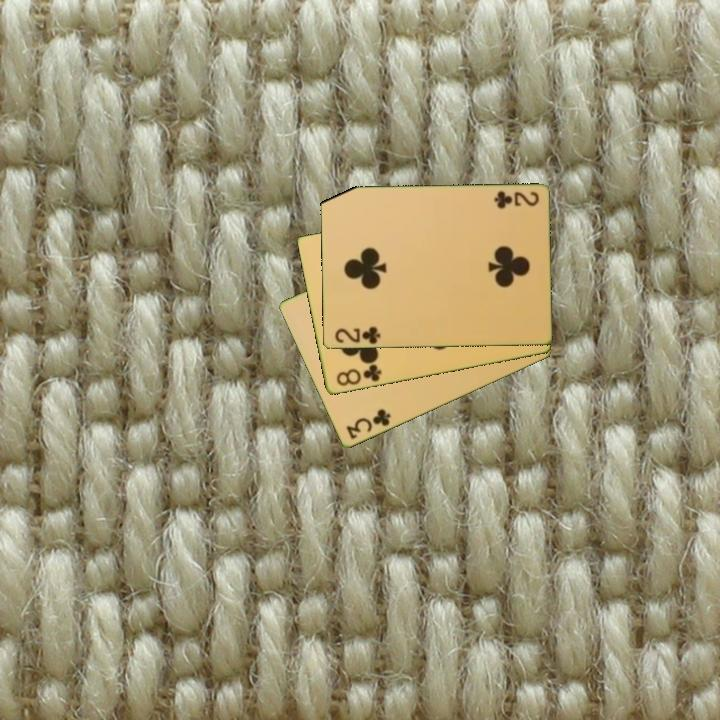2c: (332, 324, 383, 347), (490, 187, 541, 210)
3c: (342, 406, 394, 443)
8c: (332, 361, 384, 389)
